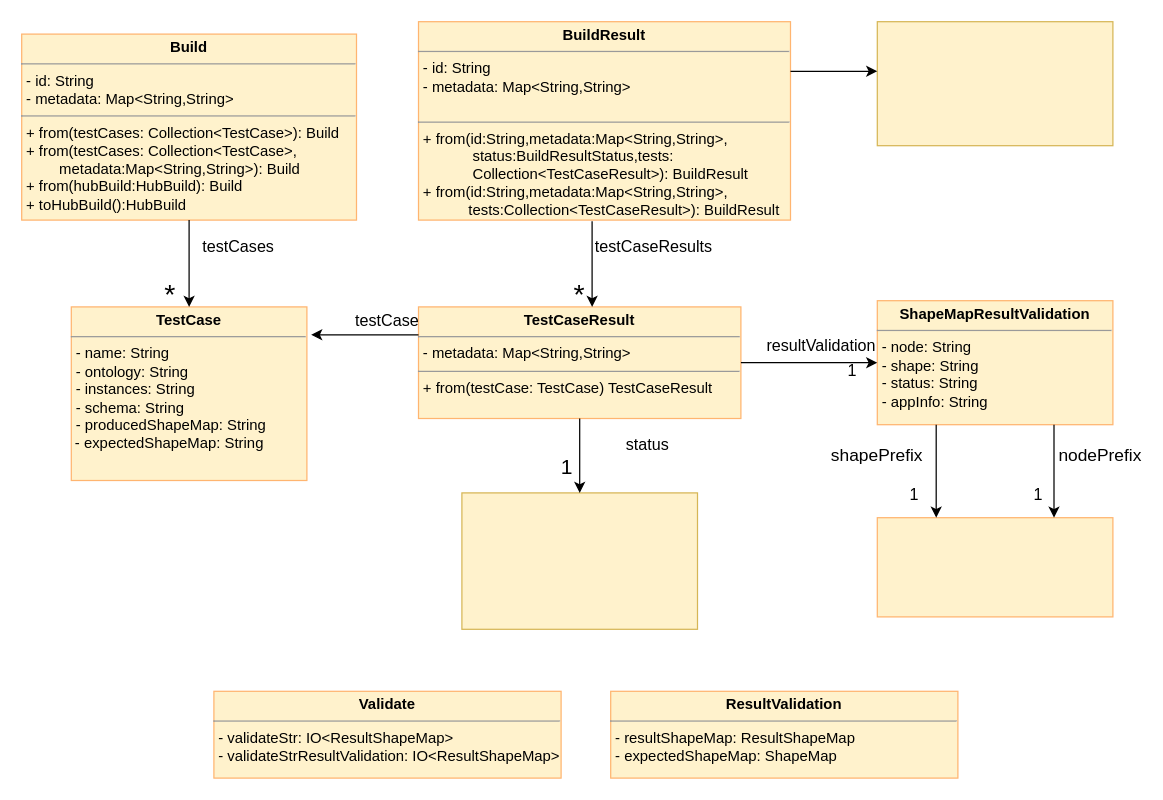
Some shapes in this 1163 by 800 pixel diagram are drawn without their labels. The shapes that lost their labels are listed below. From the top down, each one's centre as x and y in pixels, then its label:
the point at 994,83: <<enum>> BuildResultStatus + SUCCESS + FAILURE + CANCELLED
the point at 579,560: <<enum>> TestResultStatus + WAITING + EXECUTING + SUCCESS + FAILURE
the point at 994,566: PrefixedNode - qname: String - iri: String - node: String
